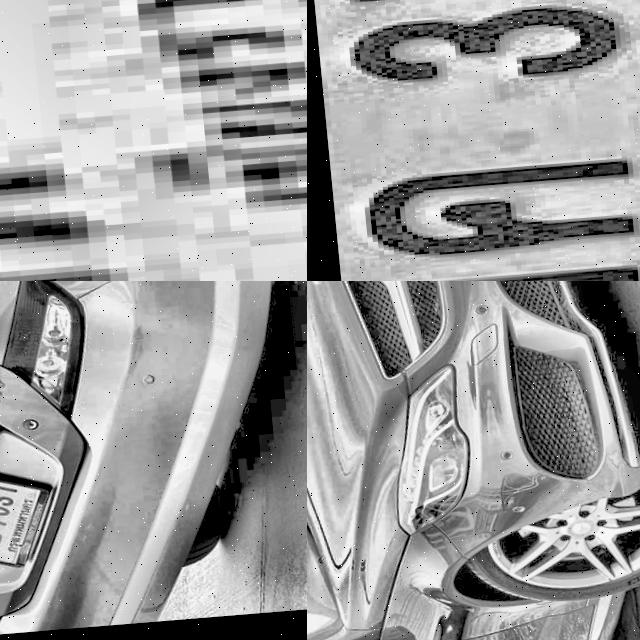license-plate: (307, 0, 640, 281), (0, 0, 307, 281), (0, 469, 50, 578)
